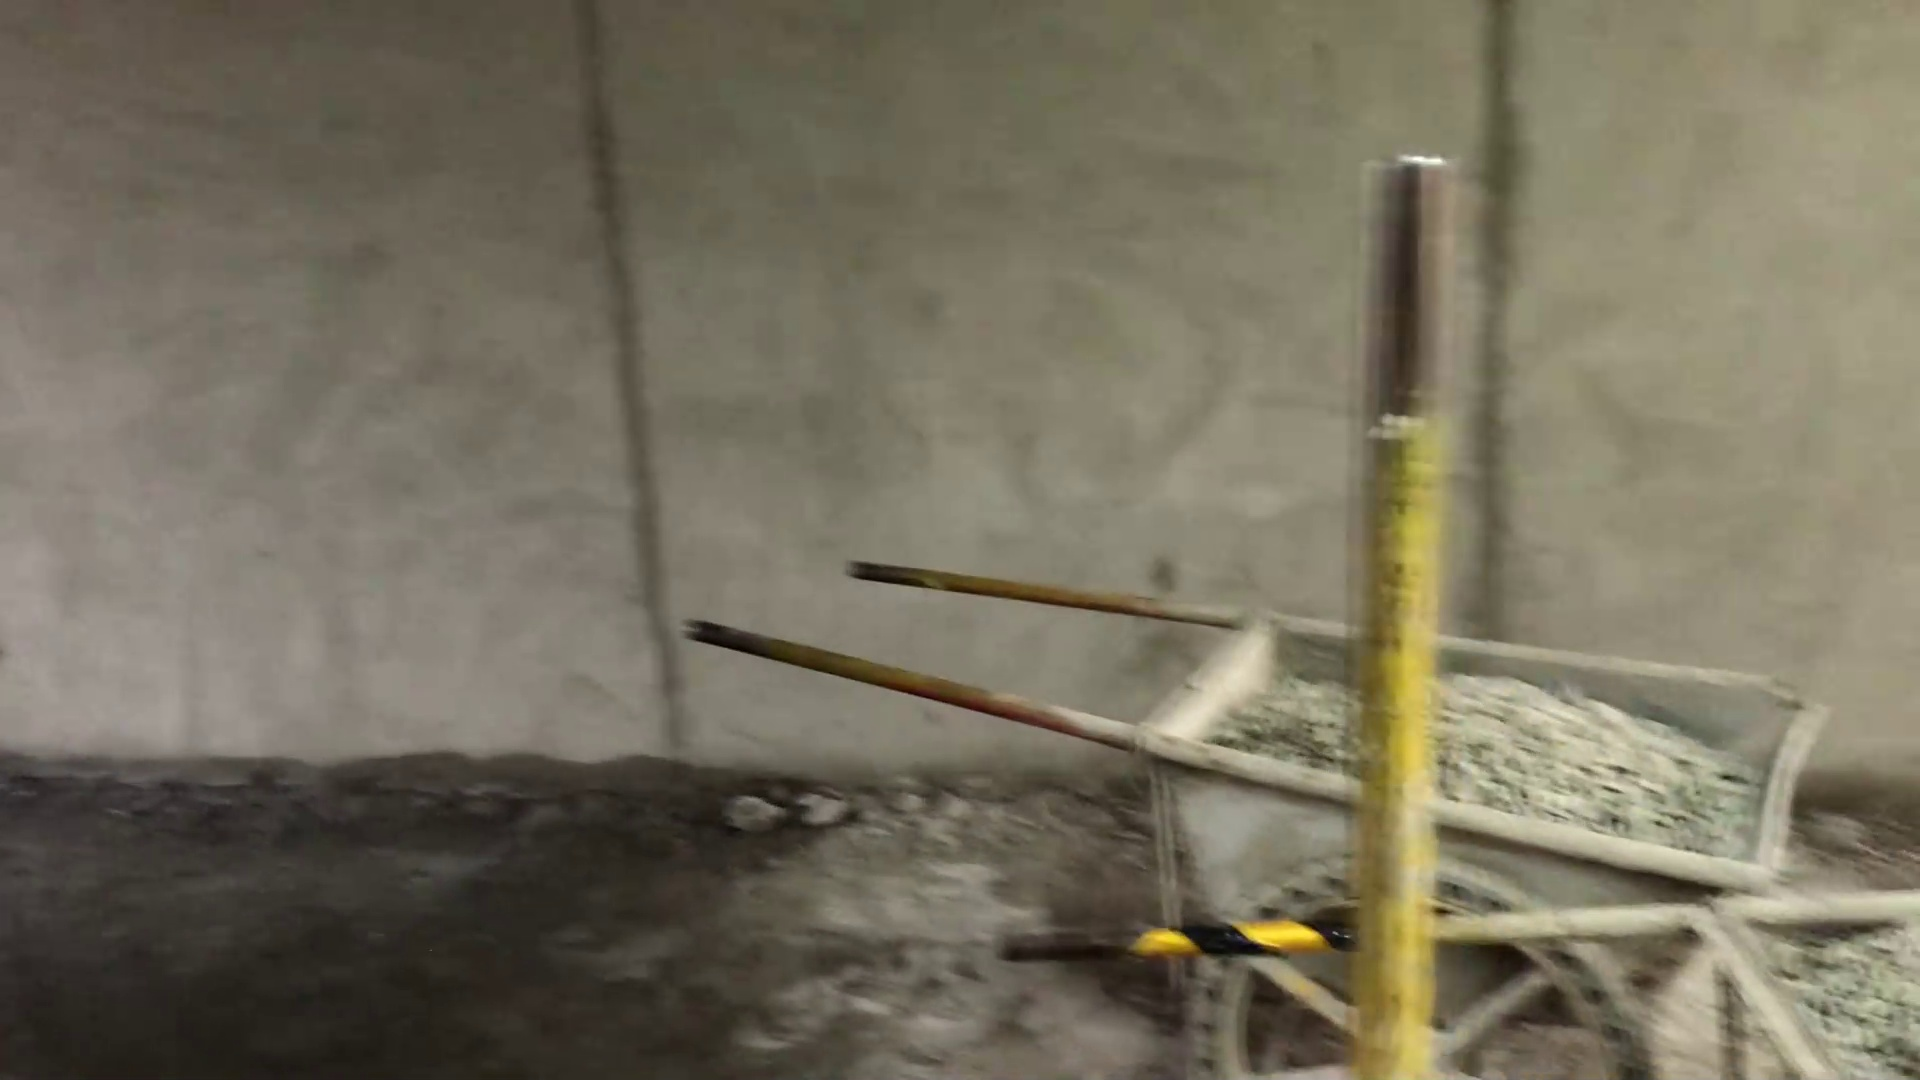handcart: (669, 579, 1909, 1063)
